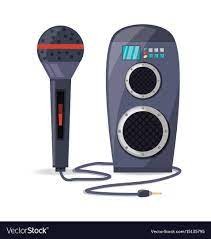microphone: (30, 25, 89, 178)
speaker: (104, 23, 186, 175)
